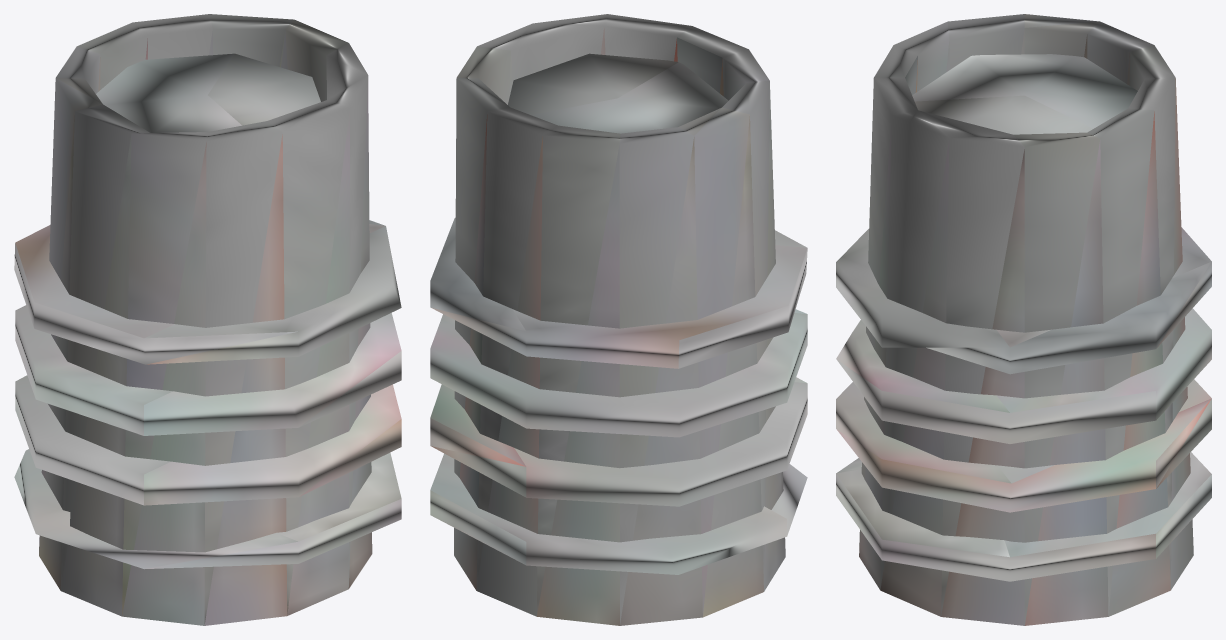
Rendered from office-espresso-cups.glb.
3 renders of one model, left to right at view 1: azimuth 30°, elevation 25°; view 2: azimuth 150°, elevation 25°; view 3: azimuth 270°, elevation 25°, orthographic.
Parts seen in each view (by area): view 1: espresso-cups; view 2: espresso-cups; view 3: espresso-cups.
Part boxes in pixels (x1,y1,x2,y2): espresso-cups: (14, 14, 401, 625); espresso-cups: (430, 14, 807, 625); espresso-cups: (836, 14, 1211, 625).
Bounding box in the file's own units: 0.1058 × 0.14 × 0.0993.
Materials: 1 (1 with a texture image).
